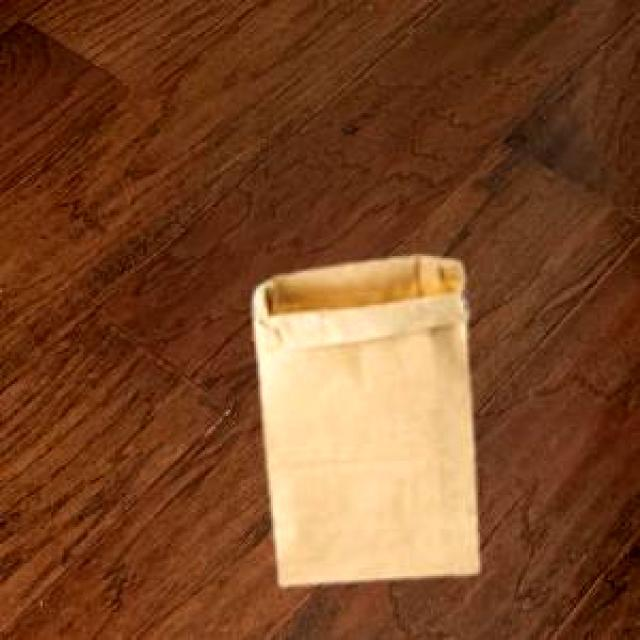Paper_Bag: (250, 253, 474, 582)
